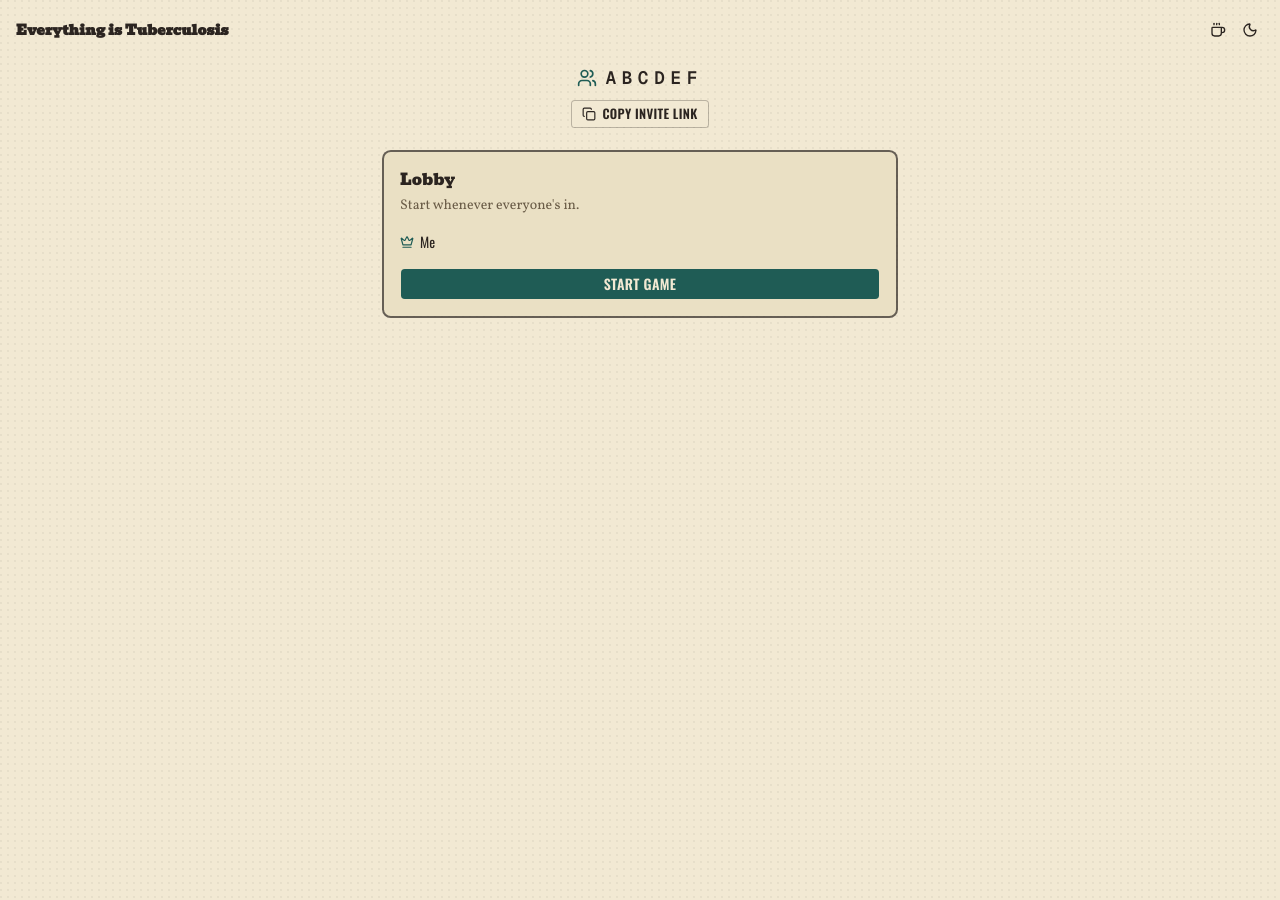
Test: PartyRoom › copies the invite link from the party code banner
The image size is (1280, 900).
Step 1. Click the button "Copy invite link" → (640, 114), box [571,100,708,128]
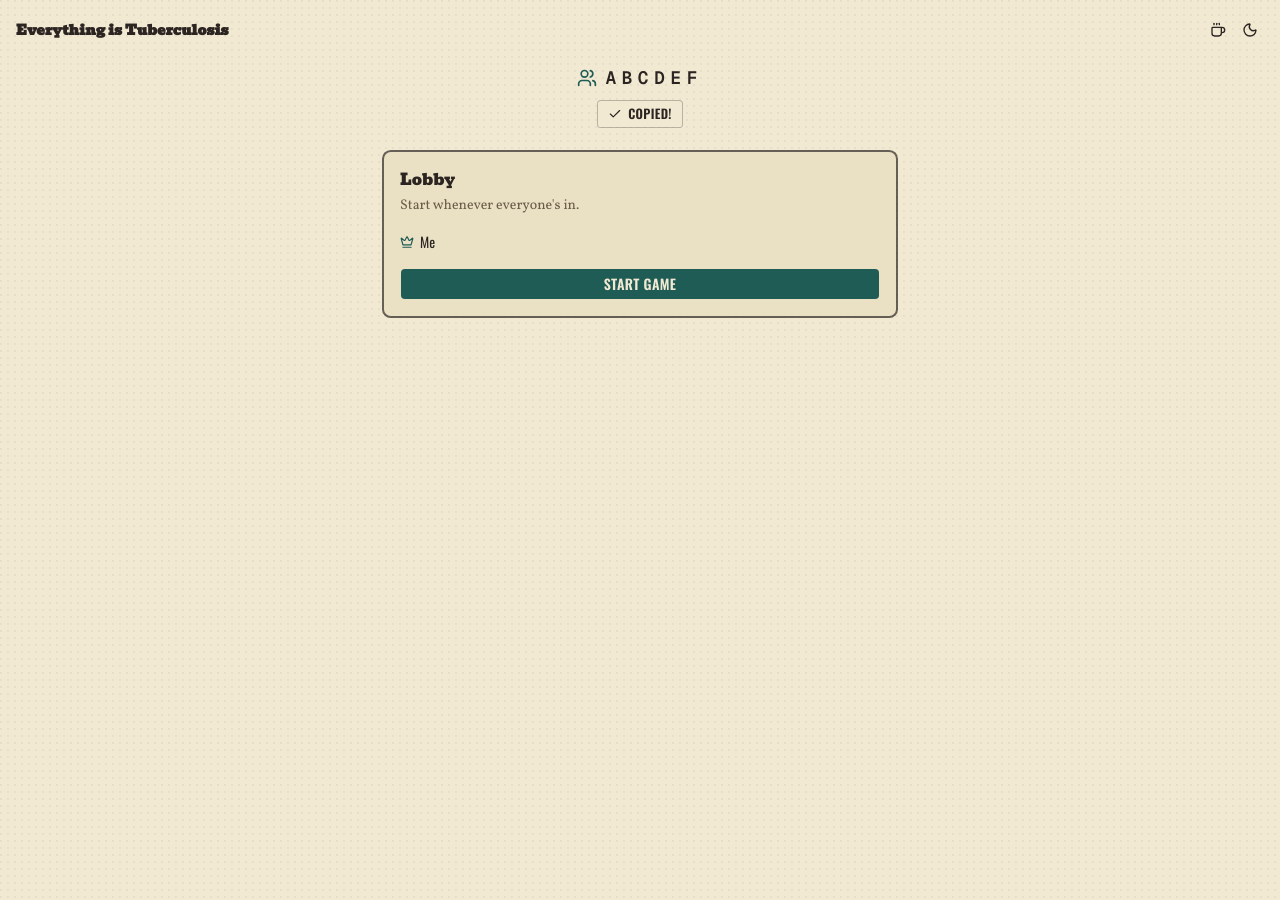
Check: the button "Copied!" is shown, box [597,100,683,128]
